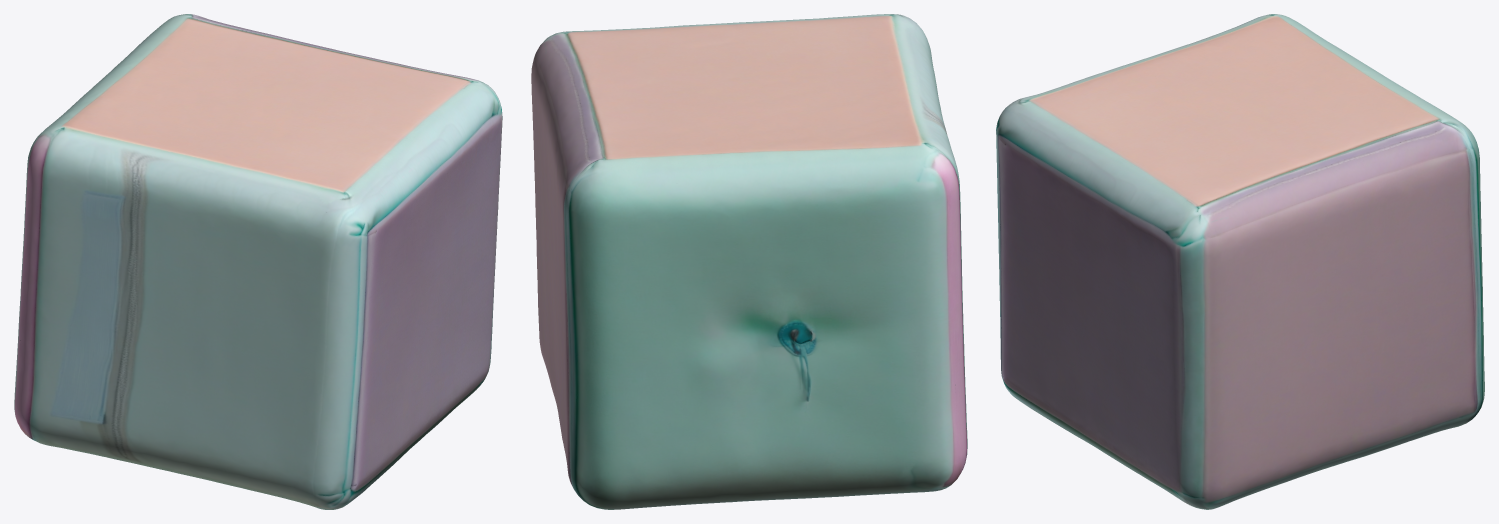
3 renders of one model, left to right at view 1: azimuth 30°, elevation 25°; view 2: azimuth 150°, elevation 25°; view 3: azimuth 270°, elevation 25°, orthographic. The views are drawn at different scales.
Parts seen in each view (by area): view 1: Mesh1.0; view 2: Mesh1.0; view 3: Mesh1.0.
Part boxes in pixels (<box>): Mesh1.0: <box>14,14,502,509</box>; Mesh1.0: <box>531,14,967,509</box>; Mesh1.0: <box>996,14,1484,509</box>.
Bounding box in the file's own units: 201 × 145 × 199.
Materials: 1 (1 with a texture image).
